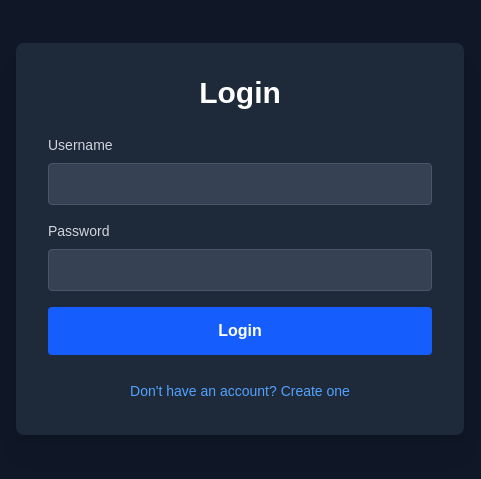
Test: Login Page › Login Flow › should show error on login failure
Type "testuser" into the field labelled "Username" at (240, 184), box [48,163,432,205]
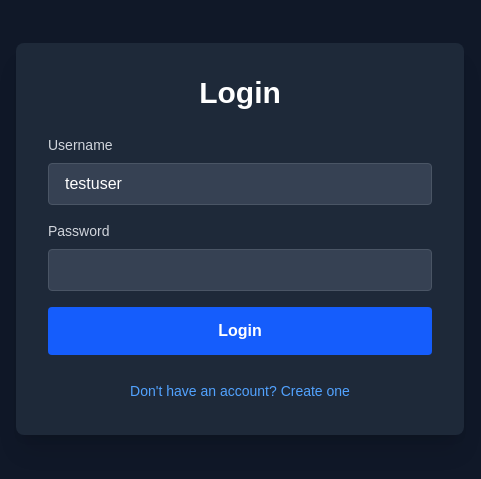
Type "wrong" into the password field labelled "Password" at (240, 270), box [48,249,432,291]
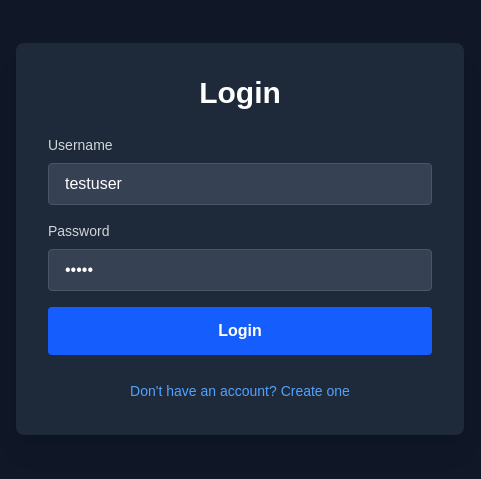
Click the button "Login" at (240, 331), box [48,307,432,355]
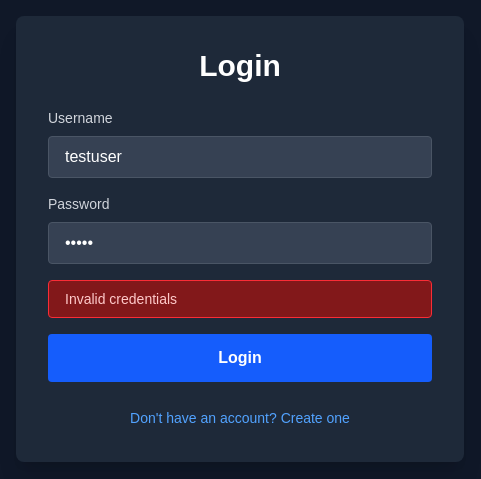
Now the text "Invalid credentials" is shown, box [48,280,432,318]
